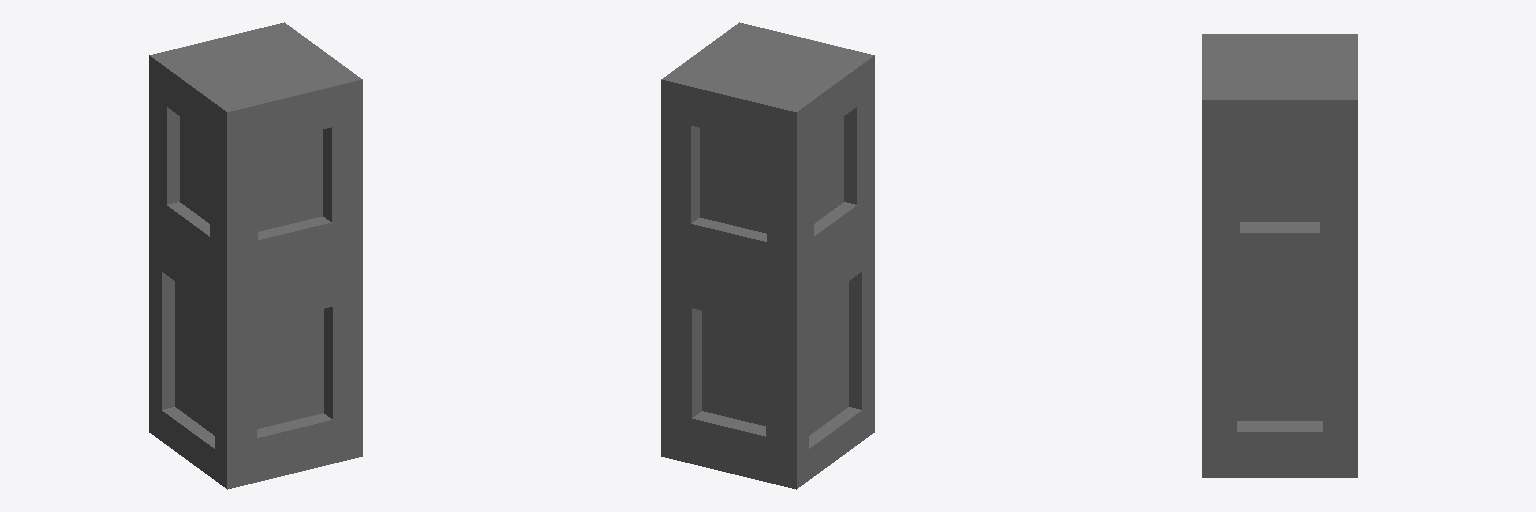
The model's file is Building_Low.obj.
3 renders of one model, left to right at view 1: azimuth 30°, elevation 25°; view 2: azimuth 150°, elevation 25°; view 3: azimuth 270°, elevation 25°, orthographic.
Visible parts, largest first — view 1: pCube1; view 2: pCube1; view 3: pCube1.
Boxes of the visible parts, x1,y1,x2,y2 form: pCube1: [149, 22, 362, 489]; pCube1: [661, 22, 874, 489]; pCube1: [1202, 34, 1357, 477].
Size of the model in its own units: 15 by 40 by 15.